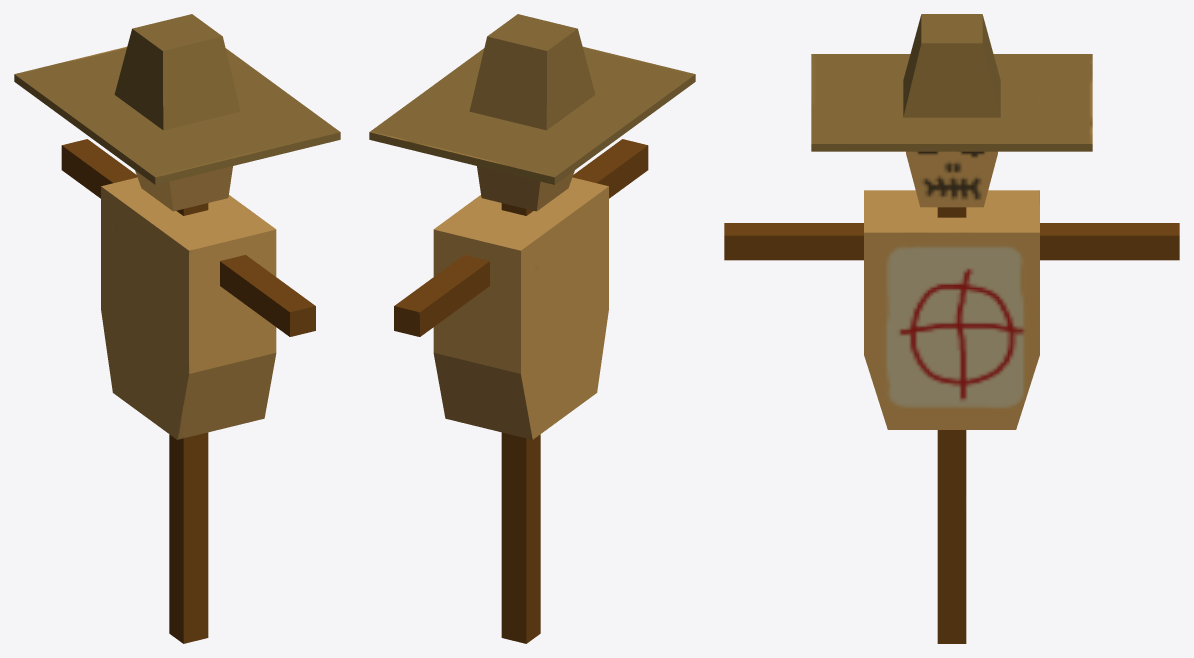
Rendered from scarecrow.fbx.
3 renders of one model, left to right at view 1: azimuth 30°, elevation 25°; view 2: azimuth 150°, elevation 25°; view 3: azimuth 270°, elevation 25°, orthographic.
Parts seen in each view (by area): view 1: model; view 2: model; view 3: model.
Boxes of the visible parts, box(x1,y1,x2,y2) form: model: box(14, 14, 340, 643); model: box(369, 14, 695, 643); model: box(724, 14, 1179, 643).
Size of what is drawn, in the model's own units: 69.27 by 216 by 148.
Materials: 1 (1 with a texture image).
